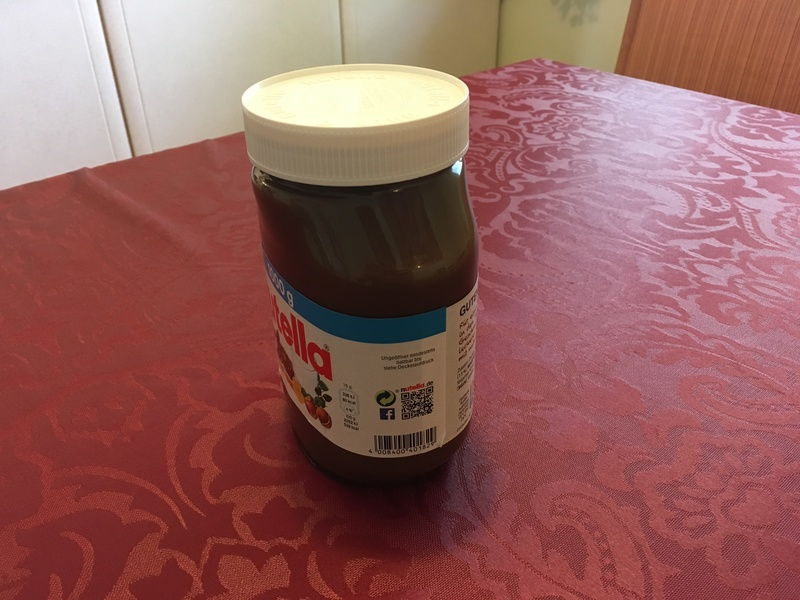nutella: (241, 62, 481, 493)
